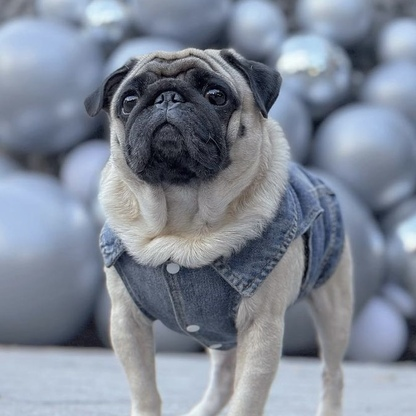Pug: (80, 44, 361, 416)
